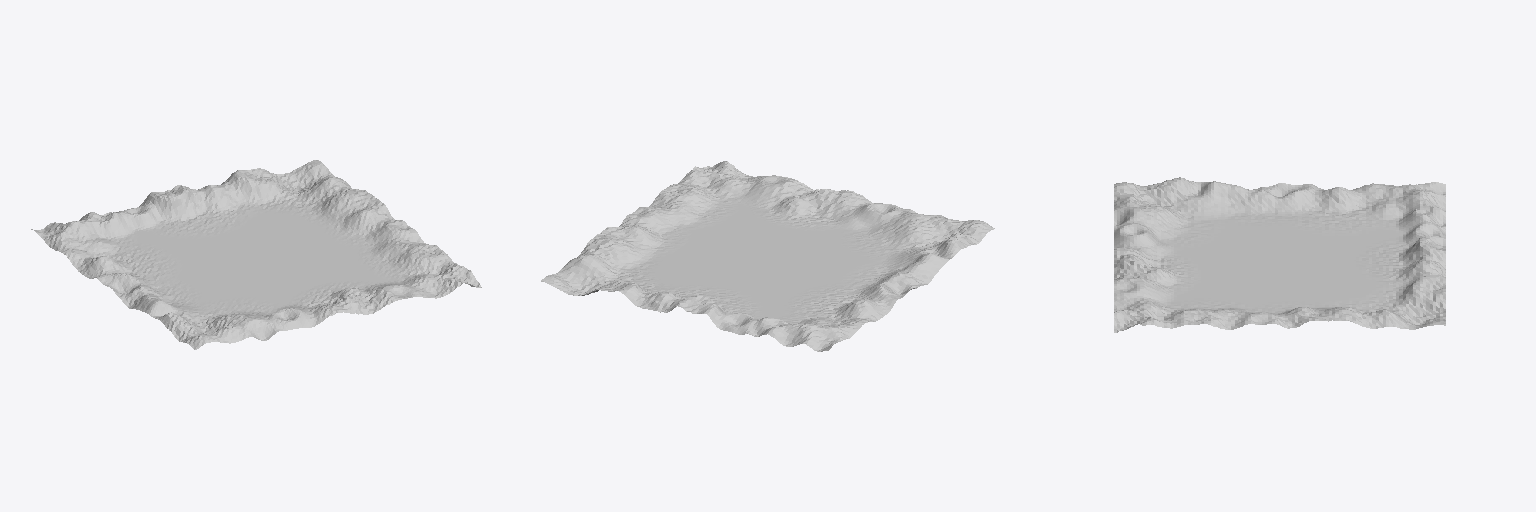
The model's file is mars_landscape.obj.
The picture shows the model from 3 angles: view 1: azimuth 30°, elevation 25°; view 2: azimuth 150°, elevation 25°; view 3: azimuth 270°, elevation 25°; orthographic projection.
Parts seen in each view (by area): view 1: Grid; view 2: Grid; view 3: Grid.
Part boxes in pixels (x1,y1,x2,y2): Grid: (31,160,481,349); Grid: (541,161,994,351); Grid: (1114,177,1445,332).
Size of the model in its own units: 40 by 3.35 by 40.